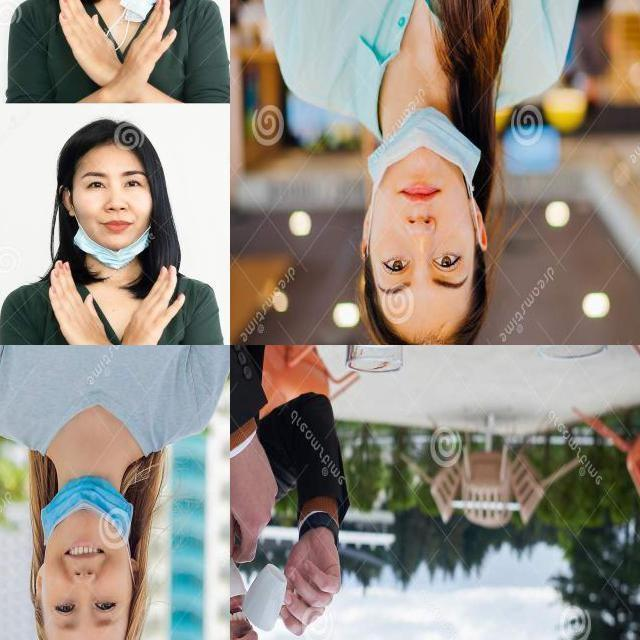hairnet: (367, 105, 485, 242), (43, 471, 132, 590), (73, 190, 153, 268)
